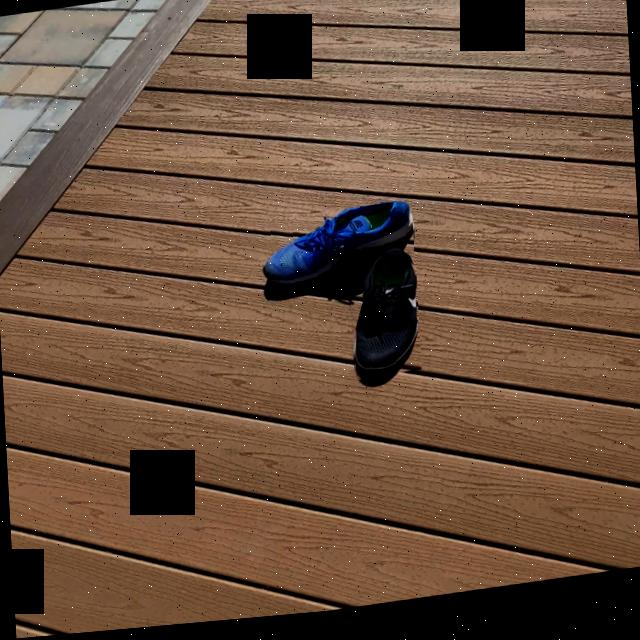shoe: (261, 209, 413, 294), (355, 264, 418, 386)
